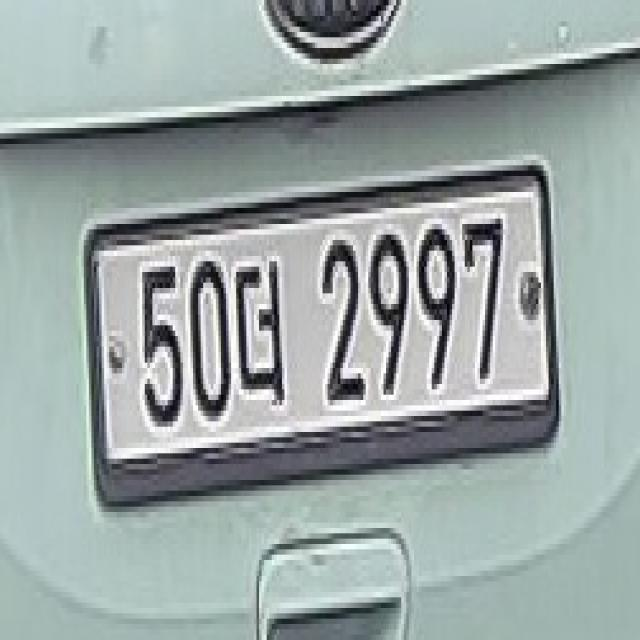0: (186, 255, 232, 428)
2: (317, 238, 364, 412)
5: (136, 259, 183, 429)
7: (462, 208, 514, 392)
9: (416, 224, 459, 400), (368, 224, 409, 408)
deo: (235, 246, 292, 416)
license_plate: (79, 148, 570, 538)
